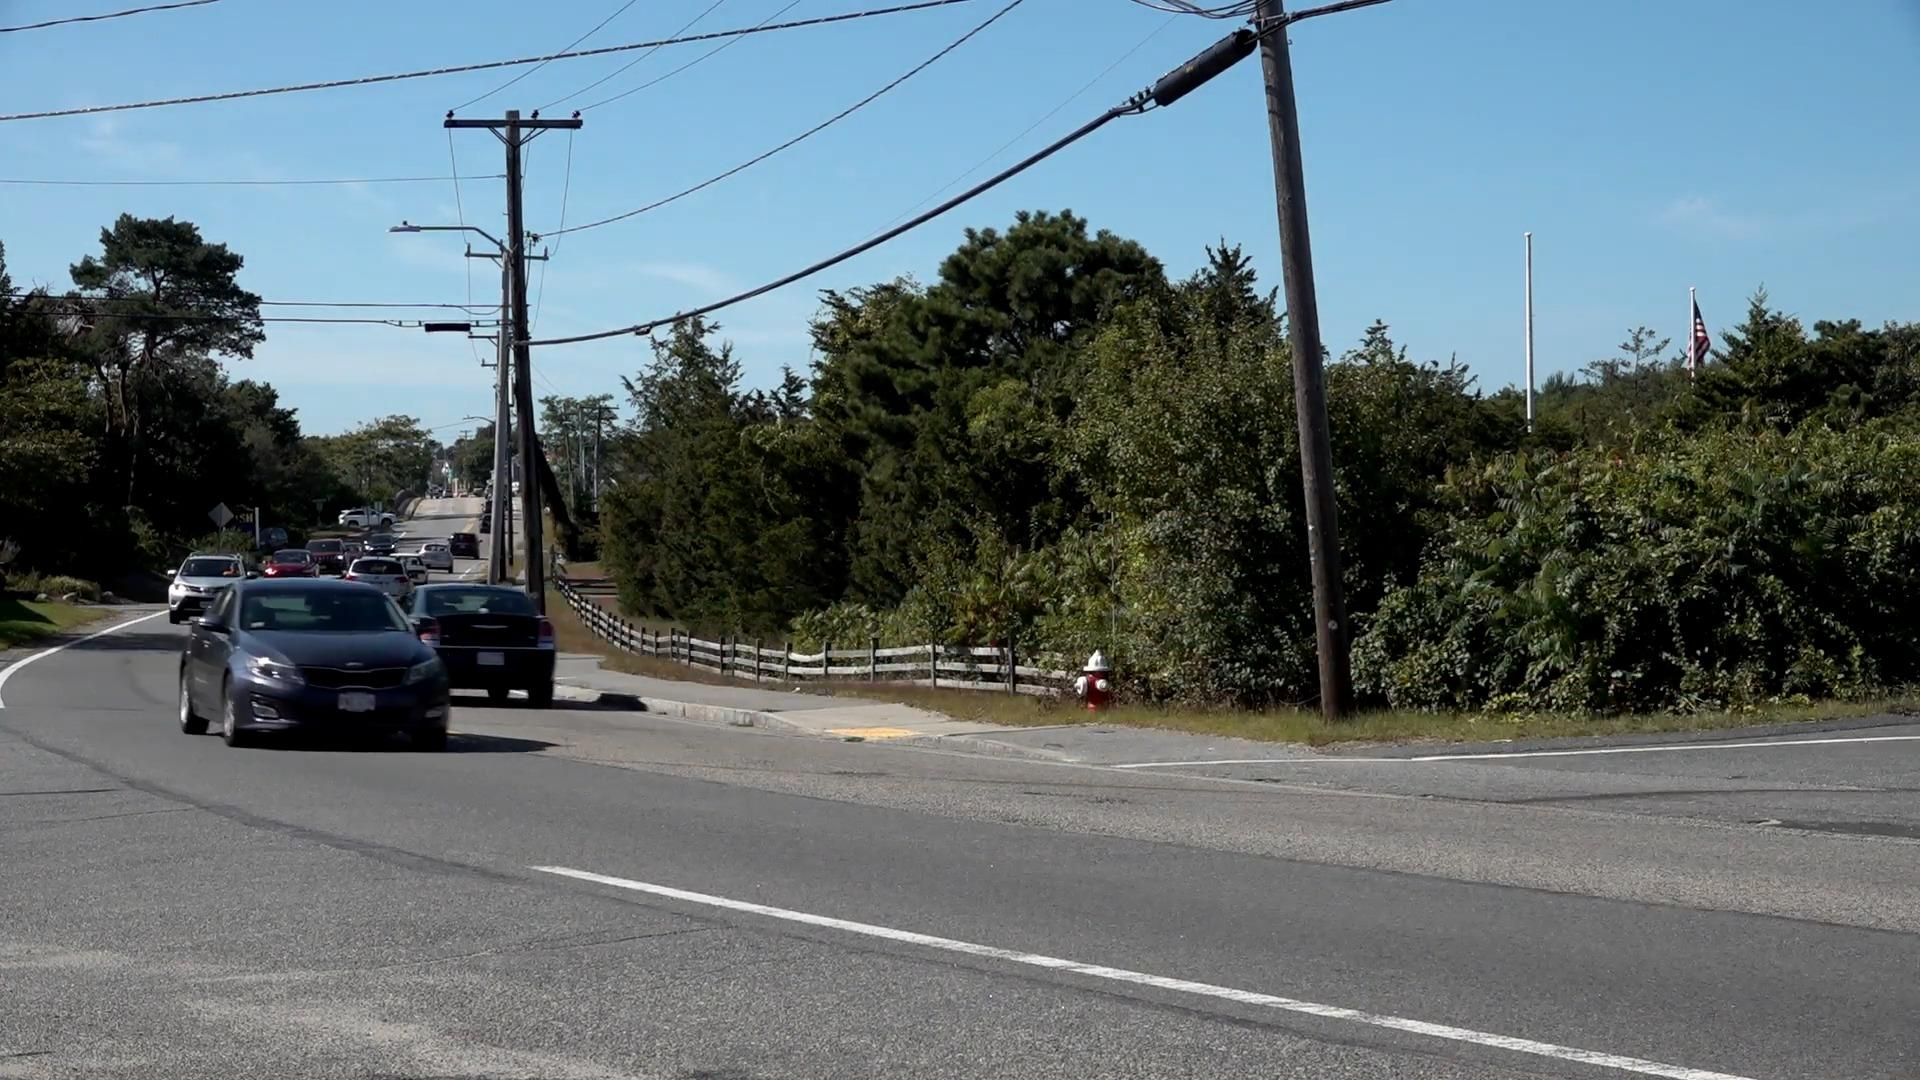sedans: (177, 570, 450, 754), (400, 581, 557, 699)
